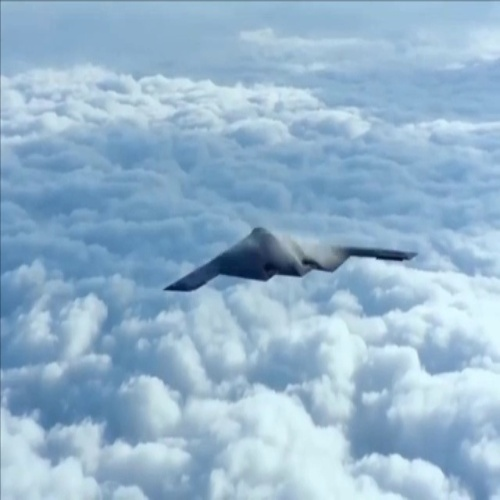uav: (159, 223, 422, 294)
